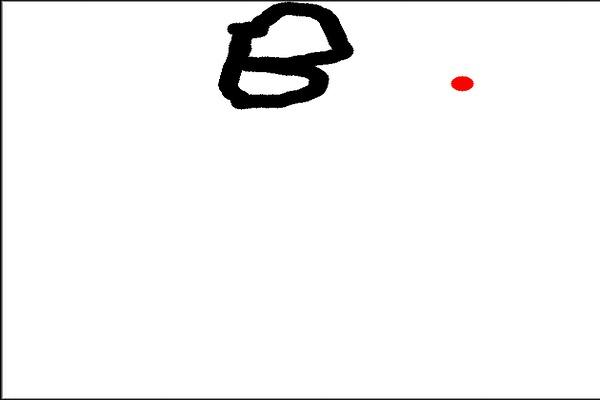B: (211, 0, 359, 118)
